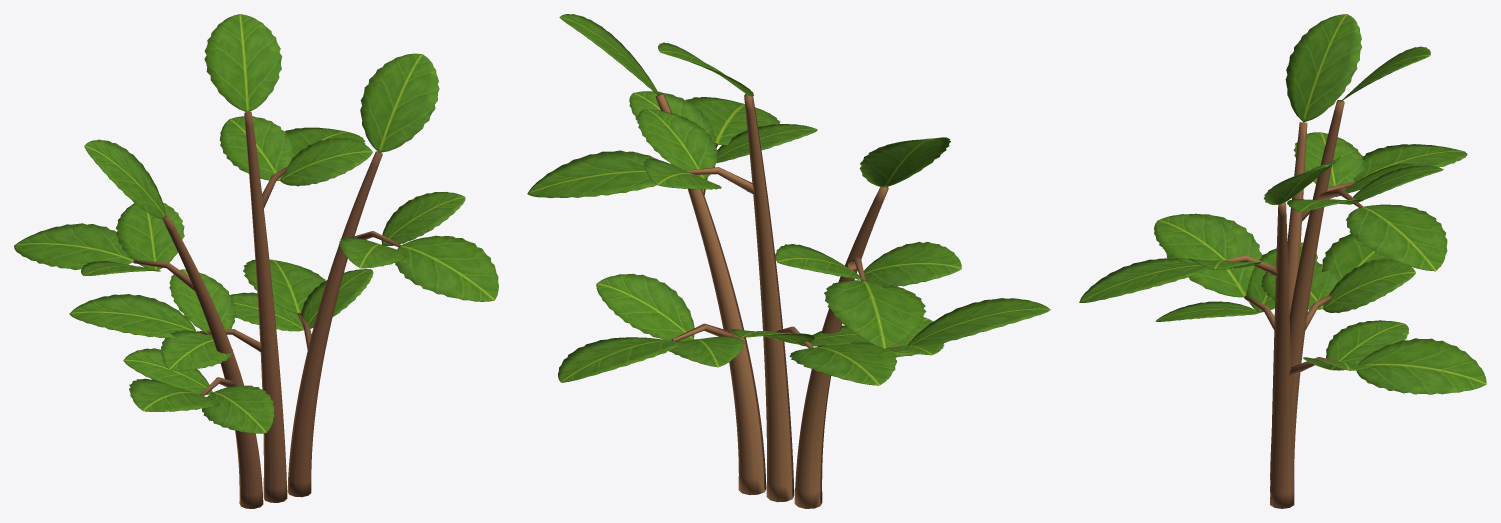
The model's file is NP_Raspberry_Young.fbx.
3 views of the same model, side by side, from view 1: azimuth 30°, elevation 25°; view 2: azimuth 150°, elevation 25°; view 3: azimuth 270°, elevation 25° (orthographic). The views are drawn at different scales.
Parts seen in each view (by area): view 1: NP_Raspberry_Young; view 2: NP_Raspberry_Young; view 3: NP_Raspberry_Young.
Part boxes in pixels (box(x1,y1,x2,y2)): NP_Raspberry_Young: box(14, 14, 498, 508); NP_Raspberry_Young: box(527, 14, 1050, 508); NP_Raspberry_Young: box(1079, 14, 1486, 508).
Bounding box in the file's own units: 51.46 × 59.1 × 48.19.
